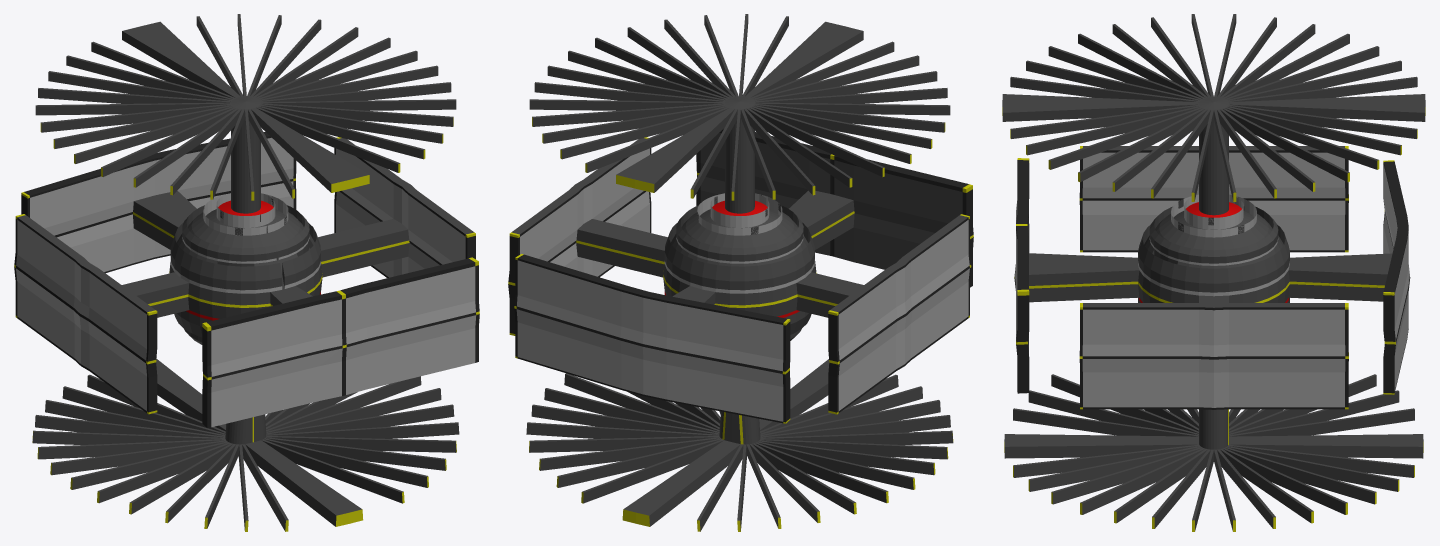
Rendered from station.obj.
The picture shows the model from 3 angles, left to right: view 1: azimuth 30°, elevation 25°; view 2: azimuth 150°, elevation 25°; view 3: azimuth 270°, elevation 25°; orthographic projection.
Parts seen in each view (by area): view 1: Sphere; view 2: Sphere; view 3: Sphere.
Boxes of the visible parts, <box> form: Sphere: <box>14,14,479,531</box>; Sphere: <box>508,14,973,531</box>; Sphere: <box>1002,14,1425,531</box>.
Bounding box in the file's own units: 11.12 × 9.99 × 10.92.
